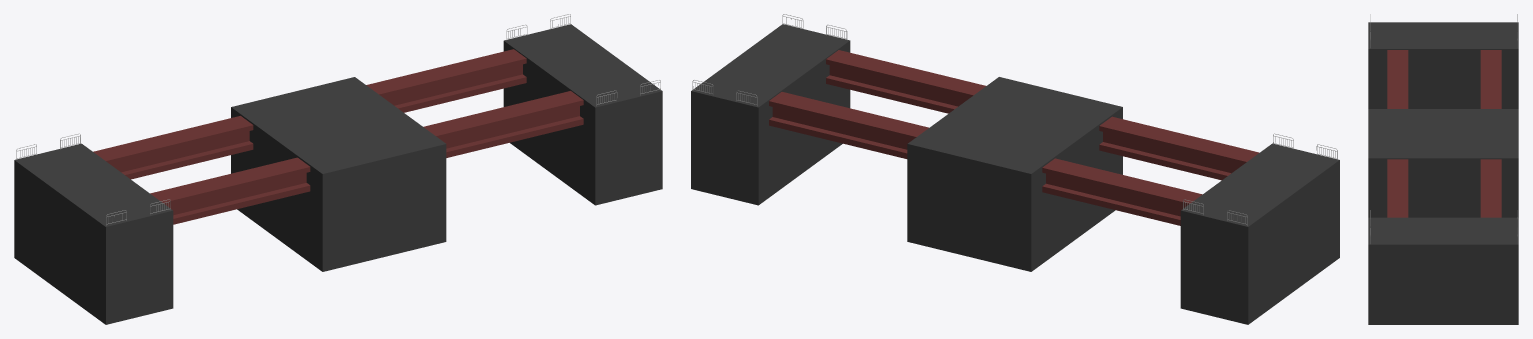
File: Teekotu.fbx
The picture shows the model from 3 angles, left to right: view 1: azimuth 30°, elevation 25°; view 2: azimuth 150°, elevation 25°; view 3: azimuth 270°, elevation 25°; orthographic projection. The views are drawn at different scales.
Visible parts, largest first — view 1: pCube4, pCube5, pCube2, pCube3, pCube7, pCube6, pCube1; view 2: pCube4, pCube5, pCube2, pCube1, pCube6, pCube3, pCube7; view 3: pCube2, pCube4, pCube5, pCube1, pCube3, pCube6, pCube7.
Boxes of the visible parts, bbox=[...] form: pCube4: bbox=[231, 77, 446, 271]; pCube5: bbox=[14, 143, 173, 324]; pCube2: bbox=[503, 24, 662, 205]; pCube3: bbox=[423, 91, 583, 157]; pCube7: bbox=[150, 157, 310, 224]; pCube6: bbox=[93, 116, 253, 179]; pCube1: bbox=[366, 49, 526, 112]; pCube4: bbox=[907, 77, 1122, 271]; pCube5: bbox=[1180, 143, 1339, 324]; pCube2: bbox=[691, 24, 850, 205]; pCube1: bbox=[769, 92, 928, 158]; pCube6: bbox=[1042, 158, 1202, 225]; pCube3: bbox=[826, 50, 985, 113]; pCube7: bbox=[1099, 116, 1259, 180]; pCube2: bbox=[1368, 217, 1518, 324]; pCube4: bbox=[1368, 109, 1518, 217]; pCube5: bbox=[1368, 22, 1518, 108]; pCube1: bbox=[1480, 159, 1501, 217]; pCube3: bbox=[1387, 159, 1408, 217]; pCube6: bbox=[1480, 50, 1501, 108]; pCube7: bbox=[1387, 50, 1408, 108].
Size of the model in its own units: 595 by 112 by 170.
